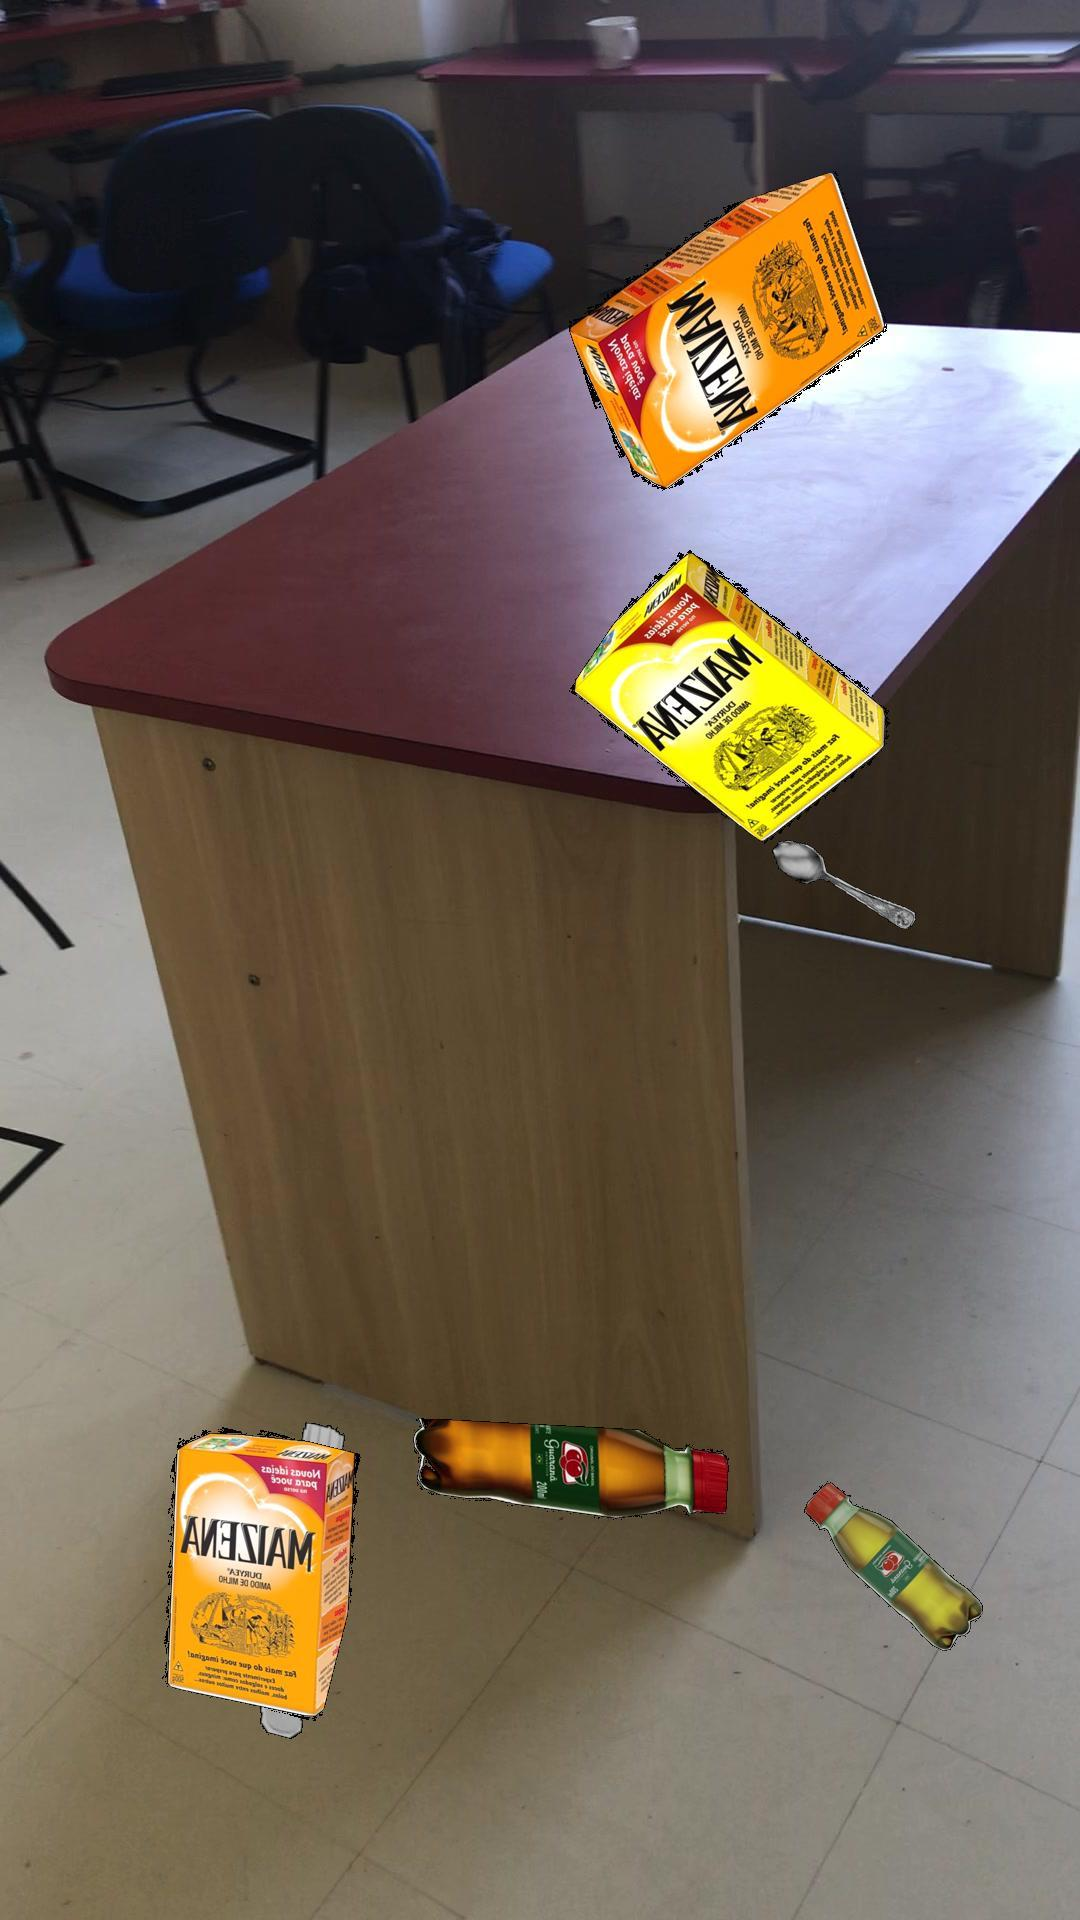guarana: (411, 1418, 728, 1518), (803, 1481, 981, 1650)
spoon: (770, 839, 914, 928)
